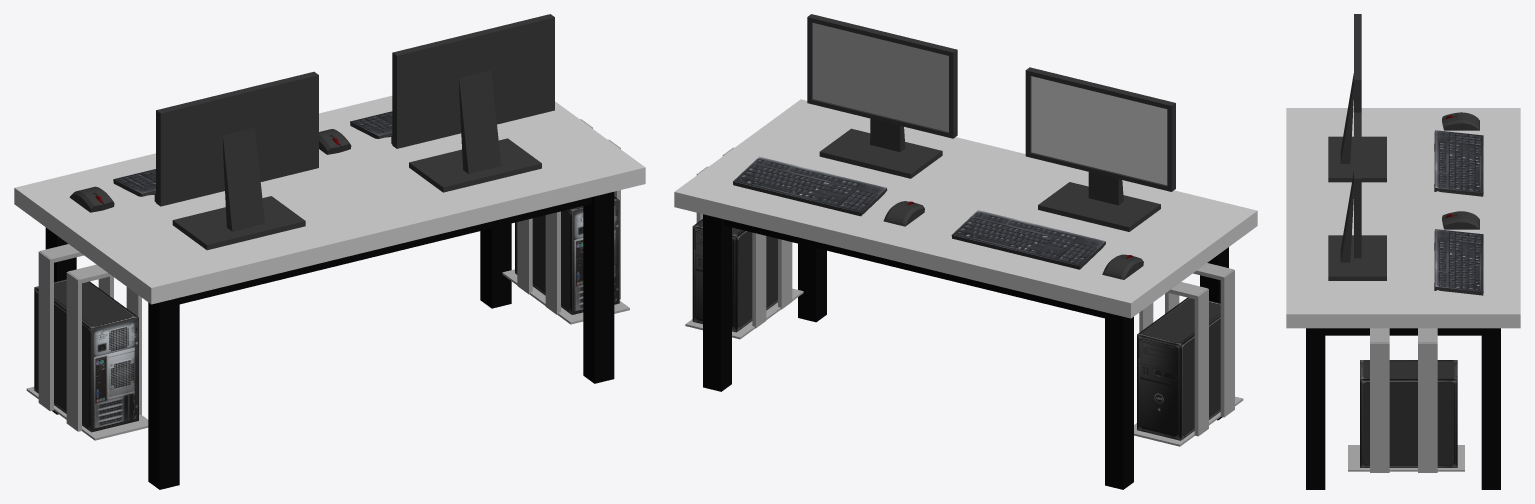
File: tavolocompleto.fbx
3 renders of one model, left to right at view 1: azimuth 30°, elevation 25°; view 2: azimuth 150°, elevation 25°; view 3: azimuth 270°, elevation 25°, orthographic. The views are drawn at different scales.
Visible parts, largest first — view 1: Tavolo, MonitorDx, MonitorSx, PcSx, PcSx.001, TastieraSx, TastieraDx, MouseDx; view 2: Tavolo, MonitorSx, MonitorDx, PcSx, TastieraDx, TastieraSx, PcSx.001, MouseSx, MouseDx; view 3: Tavolo, PcSx.001, MonitorSx, MonitorDx, TastieraSx, TastieraDx, MouseSx, MouseDx.
Part boxes in pixels (x1,y1,x2,y2): Tavolo: (14, 95, 645, 489); MonitorDx: (156, 71, 318, 250); MonitorSx: (392, 14, 554, 192); PcSx: (34, 279, 138, 432); PcSx.001: (515, 196, 619, 314); TastieraSx: (350, 111, 392, 143); TastieraDx: (113, 169, 155, 201); MouseDx: (69, 186, 114, 212); Tavolo: (674, 99, 1257, 489); MonitorSx: (807, 14, 957, 178); MonitorDx: (1025, 67, 1175, 231); PcSx: (1137, 297, 1220, 440); TastieraDx: (951, 210, 1105, 269); TastieraSx: (733, 156, 887, 216); PcSx.001: (692, 219, 777, 332); MouseSx: (883, 201, 924, 226); MouseDx: (1102, 254, 1143, 279); Tavolo: (1286, 108, 1520, 489); PcSx.001: (1360, 360, 1457, 467); MonitorSx: (1328, 112, 1386, 280); MonitorDx: (1328, 14, 1386, 182); TastieraSx: (1434, 229, 1483, 295); TastieraDx: (1434, 130, 1483, 196); MouseSx: (1442, 211, 1479, 229); MouseDx: (1442, 112, 1479, 130).
Bounding box in the file's own units: 549 × 337 × 240.
